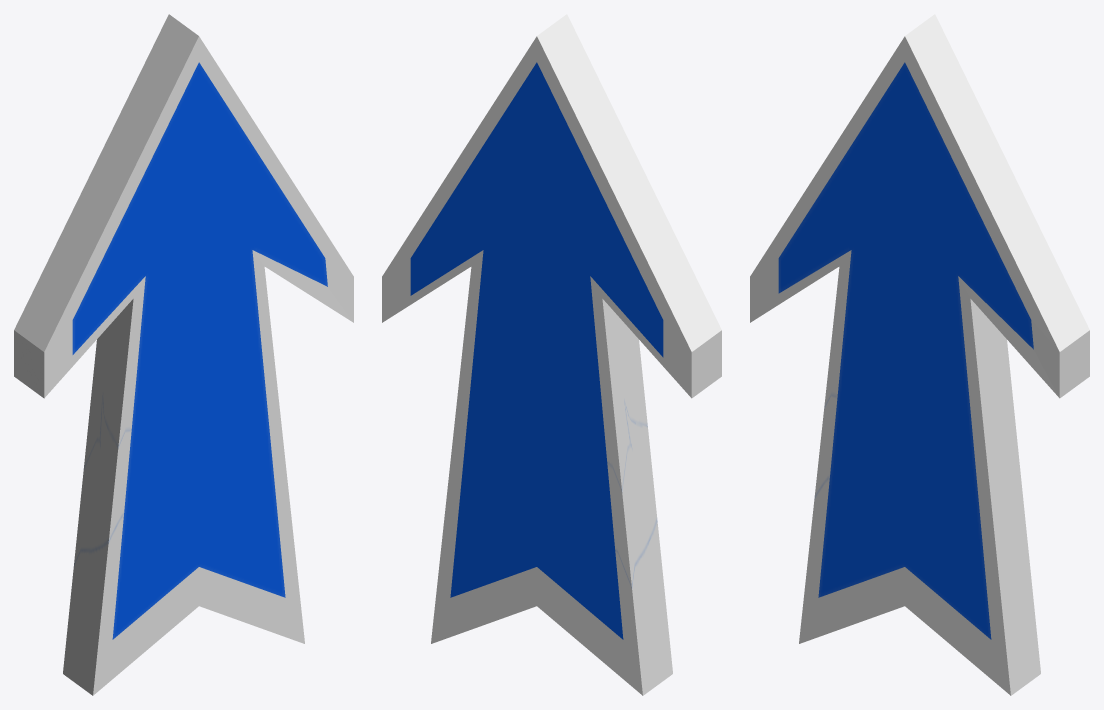
File: Seta (2).fbx
3 renders of one model, left to right at view 1: azimuth 30°, elevation 25°; view 2: azimuth 150°, elevation 25°; view 3: azimuth 330°, elevation 25°, orthographic.
Visible parts, largest first — view 1: seta; view 2: seta; view 3: seta.
Part boxes in pixels (bbox=[...]): seta: bbox=[14, 14, 353, 695]; seta: bbox=[382, 14, 721, 695]; seta: bbox=[750, 14, 1089, 695].
Size of the model in its own units: 355 by 694 by 59.84.
